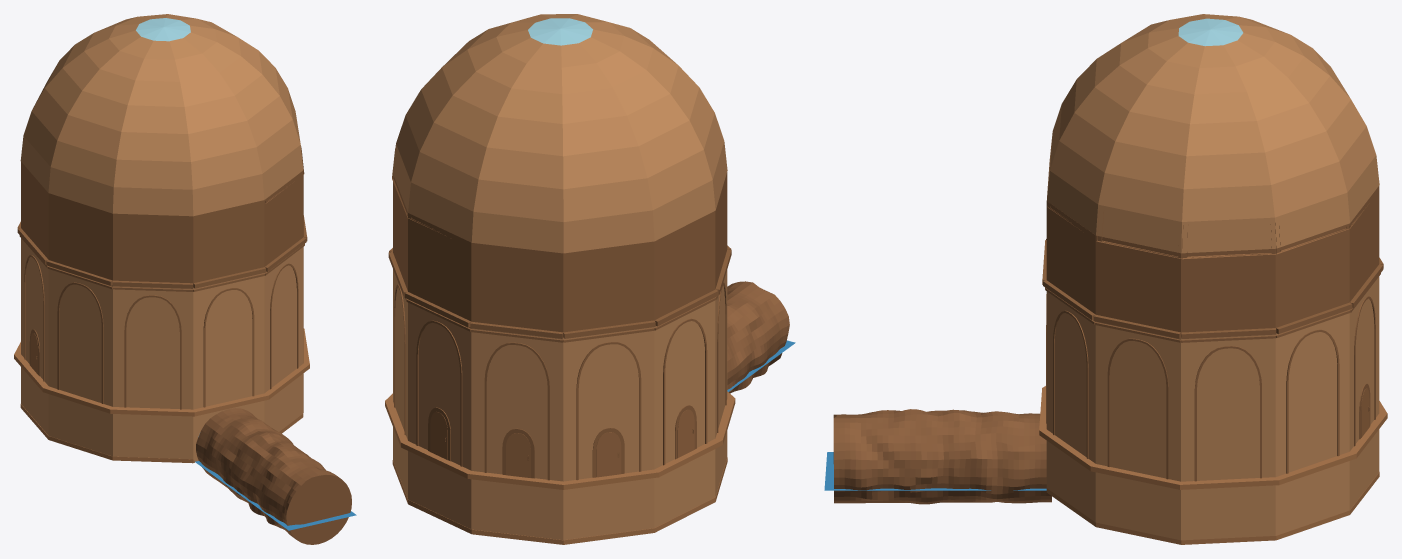
Rendered from Świątynia_Hub.fbx.
The picture shows the model from 3 angles, left to right: view 1: azimuth 30°, elevation 25°; view 2: azimuth 150°, elevation 25°; view 3: azimuth 270°, elevation 25°; orthographic projection. The views are drawn at different scales.
Parts seen in each view (by area): view 1: Kopuła1.001, ŚcianyZewnętrzne, ŚcianyZewnętrzne.001, Cylinder, ŚcianyZewnętrzne.003, ŚcianyZewnętrzne.002, ŚcianyZewnętrzne.011, ŚcianyZewnętrzne.004, Podłoga2, ŚcianyZewnętrzne.015, Kopuła1.004, Podłoga1 (+2 smaller); view 2: Kopuła1.001, ŚcianyZewnętrzne, ŚcianyZewnętrzne.006, ŚcianyZewnętrzne.005, ŚcianyZewnętrzne.021, ŚcianyZewnętrzne.004, Cylinder, ŚcianyZewnętrzne.013, ŚcianyZewnętrzne.014, Podłoga2, ŚcianyZewnętrzne.007, ŚcianyZewnętrzne.015 (+8 smaller); view 3: Kopuła1.001, ŚcianyZewnętrzne, Cylinder, ŚcianyZewnętrzne.009, ŚcianyZewnętrzne.010, ŚcianyZewnętrzne.008, ŚcianyZewnętrzne.011, Podłoga2, ŚcianyZewnętrzne.021, Podłoga1, Kopuła1.004, ŚcianyZewnętrzne.007 (+2 smaller).
Boxes of the visible parts, bbox=[...] form: Kopuła1.001: bbox=[20, 14, 303, 216]; ŚcianyZewnętrzne: bbox=[17, 162, 307, 409]; ŚcianyZewnętrzne.001: bbox=[113, 286, 193, 459]; Cylinder: bbox=[196, 408, 351, 544]; ŚcianyZewnętrzne.003: bbox=[48, 266, 112, 456]; ŚcianyZewnętrzne.002: bbox=[193, 273, 264, 409]; ŚcianyZewnętrzne.011: bbox=[264, 247, 303, 431]; ŚcianyZewnętrzne.004: bbox=[21, 238, 48, 385]; Podłoga2: bbox=[14, 328, 309, 416]; ŚcianyZewnętrzne.015: bbox=[21, 367, 48, 435]; Kopuła1.004: bbox=[136, 18, 190, 41]; Podłoga1: bbox=[20, 404, 303, 463]; Kopuła1.001: bbox=[393, 14, 727, 253]; ŚcianyZewnętrzne: bbox=[388, 172, 731, 480]; ŚcianyZewnętrzne.006: bbox=[471, 328, 563, 481]; ŚcianyZewnętrzne.005: bbox=[563, 327, 654, 481]; ŚcianyZewnętrzne.021: bbox=[408, 302, 471, 470]; ŚcianyZewnętrzne.004: bbox=[654, 300, 715, 469]; Cylinder: bbox=[727, 281, 789, 393]; ŚcianyZewnętrzne.013: bbox=[471, 479, 563, 539]; ŚcianyZewnętrzne.014: bbox=[563, 478, 654, 540]; Podłoga2: bbox=[385, 391, 735, 489]; ŚcianyZewnętrzne.007: bbox=[408, 451, 471, 528]; ŚcianyZewnętrzne.015: bbox=[654, 449, 715, 527]; Kopuła1.001: bbox=[1046, 14, 1379, 253]; ŚcianyZewnętrzne: bbox=[1042, 186, 1383, 481]; Cylinder: bbox=[833, 409, 1051, 504]; ŚcianyZewnętrzne.009: bbox=[1181, 334, 1275, 540]; ŚcianyZewnętrzne.010: bbox=[1095, 321, 1180, 540]; ŚcianyZewnętrzne.008: bbox=[1275, 310, 1349, 535]; ŚcianyZewnętrzne.011: bbox=[1046, 291, 1095, 521]; Podłoga2: bbox=[1039, 386, 1387, 489]; ŚcianyZewnętrzne.021: bbox=[1349, 276, 1379, 451]; Podłoga1: bbox=[1046, 472, 1379, 544]; Kopuła1.004: bbox=[1178, 18, 1243, 46]; ŚcianyZewnętrzne.007: bbox=[1349, 429, 1379, 509].
Size of the model in its own units: 1871 by 2779 by 3006.
